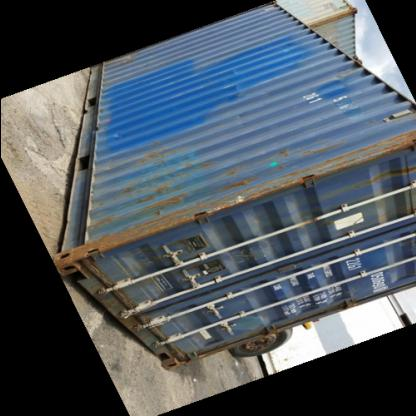Damage: (61, 186, 283, 254), (261, 110, 411, 185), (132, 140, 258, 190)
